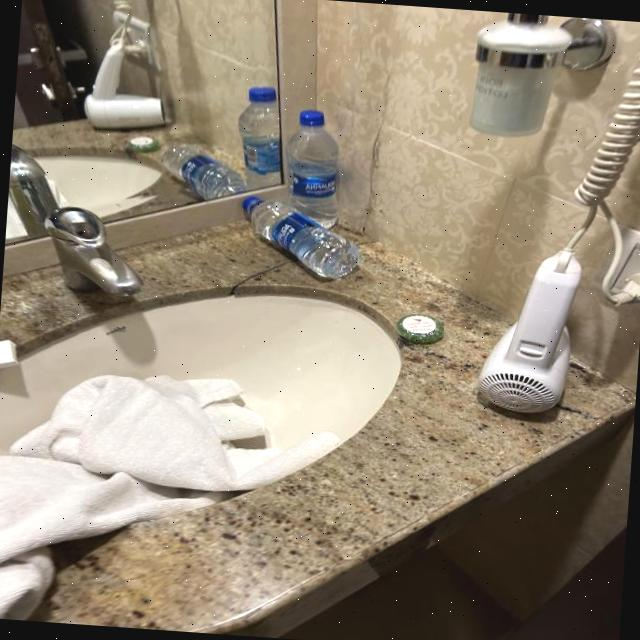disorganized_towel: (0, 373, 342, 619)
mess: (220, 192, 453, 344)
messy_sink: (0, 204, 422, 496)
